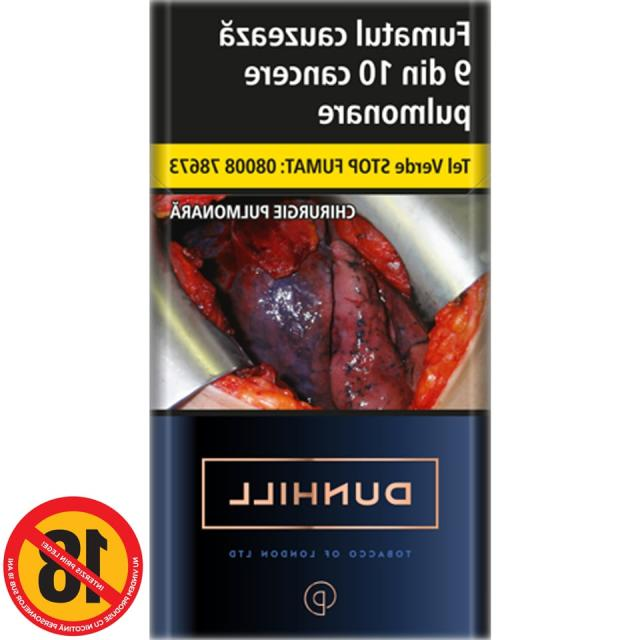dunhill: (146, 0, 494, 640)
